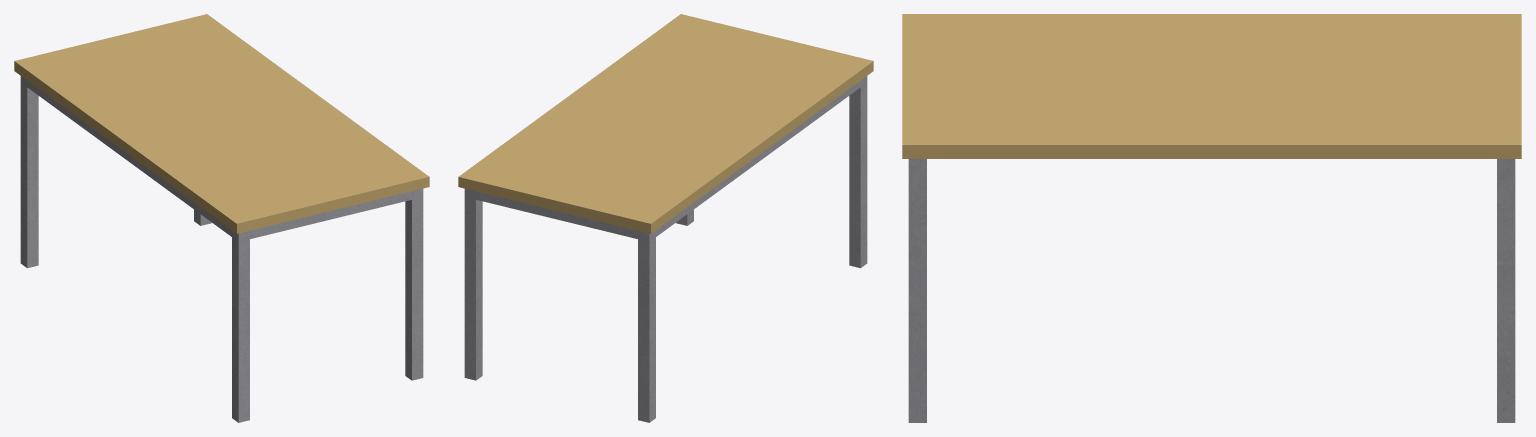
Rendered from Elec-simple_school_desk.fbx.
The picture shows the model from 3 angles, left to right: view 1: azimuth 30°, elevation 25°; view 2: azimuth 150°, elevation 25°; view 3: azimuth 270°, elevation 25°; orthographic projection. The views are drawn at different scales.
Visible parts, largest first — view 1: Cube; view 2: Cube; view 3: Cube.
Part boxes in pixels (x1=…): Cube: x1=14, y1=14, x2=429, y2=422; Cube: x1=458, y1=14, x2=873, y2=422; Cube: x1=902, y1=14, x2=1521, y2=422.
Size of the model in its own units: 200 by 200 by 400.
Materials: 1 (1 with a texture image).
